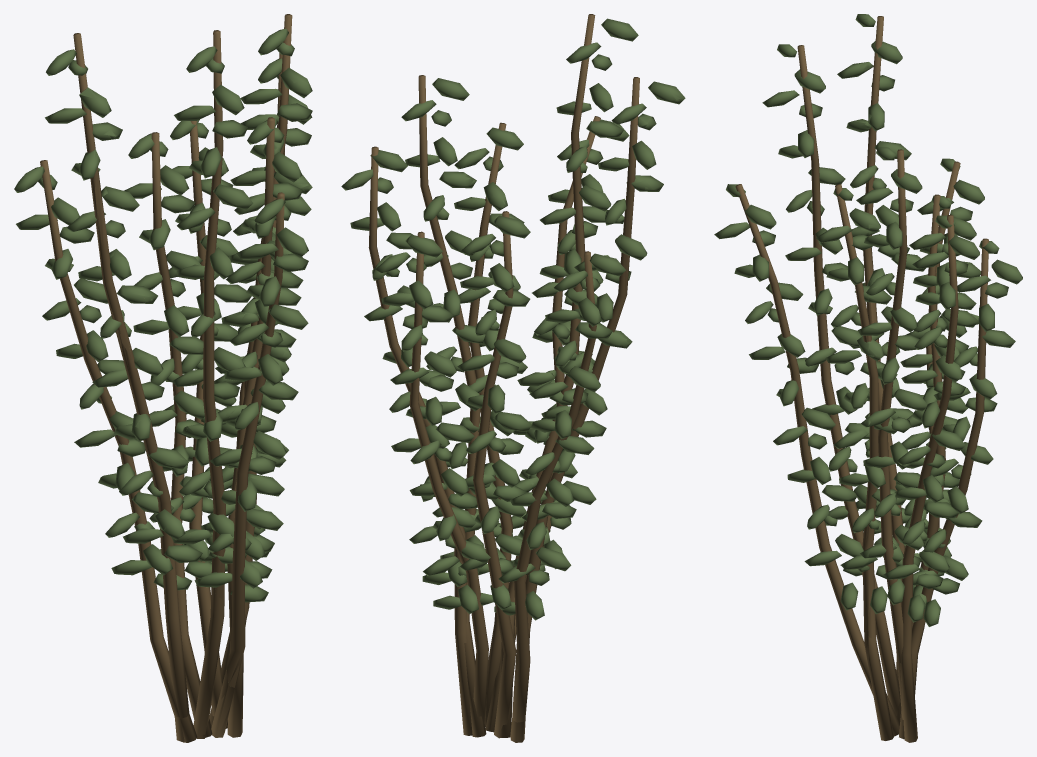
Rendered from thym.glb.
3 views of the same model, side by side, from view 1: azimuth 30°, elevation 25°; view 2: azimuth 150°, elevation 25°; view 3: azimuth 270°, elevation 25° (orthographic). The views are drawn at different scales.
Visible parts, largest first — view 1: entier_peau, entier_extra0, moitie_B_peau, moitie_A_peau, moitie_B_extra0, moitie_A_extra0; view 2: entier_peau, moitie_B_peau, moitie_B_extra0, entier_extra0, moitie_A_peau, moitie_A_extra0; view 3: entier_peau, moitie_B_peau, entier_extra0, moitie_A_peau, moitie_B_extra0, moitie_A_extra0.
Part boxes in pixels (x1,y1,x2,y2): entier_peau: [14, 28, 312, 592]; entier_extra0: [44, 14, 292, 742]; moitie_B_peau: [14, 29, 312, 589]; moitie_A_peau: [46, 46, 312, 602]; moitie_B_extra0: [40, 15, 290, 742]; moitie_A_extra0: [95, 30, 284, 687]; entier_peau: [341, 19, 685, 620]; moitie_B_peau: [341, 82, 675, 618]; moitie_B_extra0: [373, 75, 639, 742]; entier_extra0: [368, 14, 639, 742]; moitie_A_peau: [445, 18, 684, 570]; moitie_A_extra0: [474, 14, 632, 642]; entier_peau: [716, 14, 1022, 626]; moitie_B_peau: [868, 22, 1022, 622]; entier_extra0: [735, 16, 988, 742]; moitie_A_peau: [714, 14, 868, 610]; moitie_B_extra0: [868, 16, 988, 741]; moitie_A_extra0: [737, 45, 868, 661].
Size of the model in its own units: 0.0516 by 0.1181 by 0.0496.
Materials: 3 (1 with a texture image).
